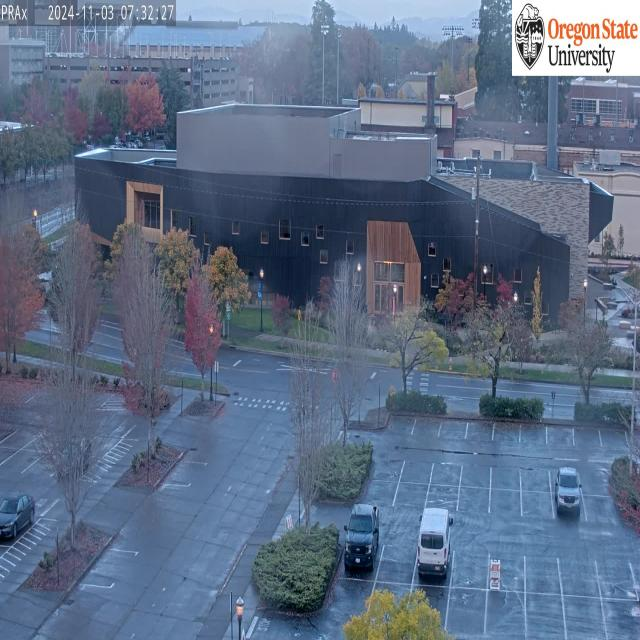available: (482, 589, 526, 639), (445, 588, 489, 637), (336, 575, 371, 628), (599, 595, 640, 640), (562, 596, 602, 640), (520, 601, 564, 639), (554, 558, 599, 594), (412, 589, 446, 635), (450, 550, 490, 588), (375, 580, 410, 622), (594, 558, 636, 593), (378, 542, 414, 582), (519, 557, 562, 589), (487, 553, 526, 585), (428, 488, 462, 518), (394, 484, 427, 513), (580, 500, 616, 526), (427, 466, 463, 492), (489, 466, 521, 494), (520, 492, 556, 516), (461, 462, 491, 489), (400, 461, 430, 488), (521, 467, 551, 493), (375, 456, 401, 485), (518, 426, 547, 452), (458, 493, 490, 515), (490, 490, 520, 512), (545, 422, 570, 447), (573, 427, 600, 450), (370, 481, 395, 505), (463, 421, 489, 444), (384, 414, 411, 436), (581, 472, 609, 492), (599, 430, 626, 450), (491, 426, 518, 446), (440, 418, 465, 438), (412, 417, 438, 435)
occupied: (341, 506, 383, 576), (418, 514, 451, 578), (552, 471, 580, 510)
